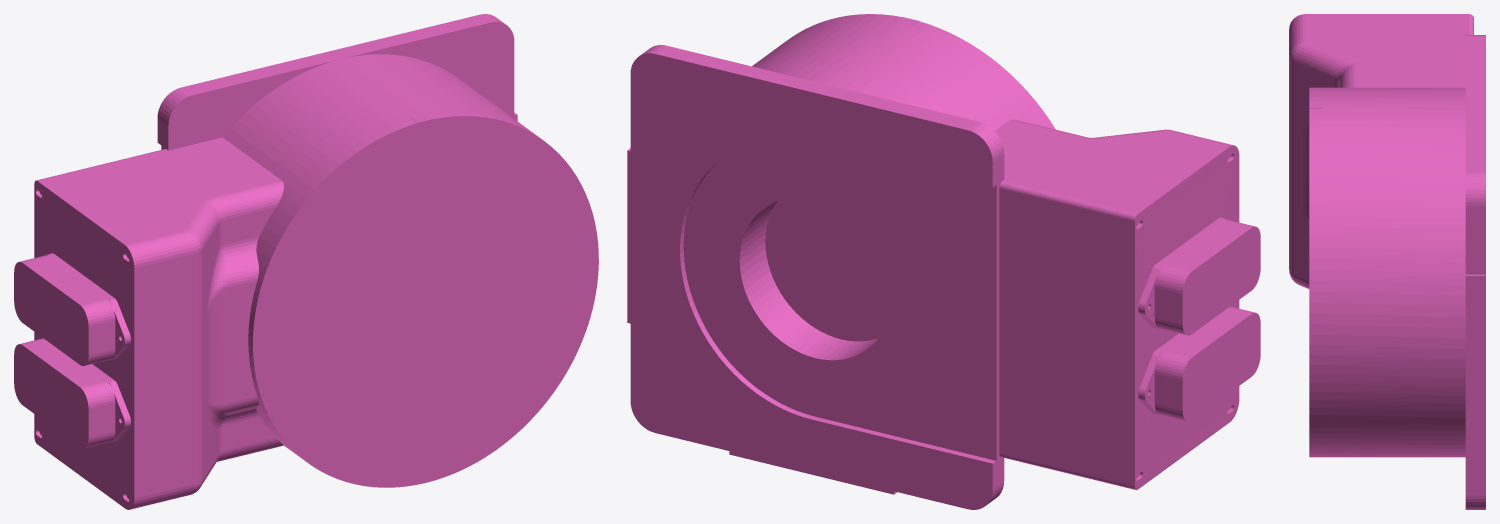
3 views of the same model, side by side, from view 1: azimuth 30°, elevation 25°; view 2: azimuth 150°, elevation 25°; view 3: azimuth 270°, elevation 25° (orthographic). The views are drawn at different scales.
Parts seen in each view (by area): view 1: Base; view 2: Base; view 3: Base.
Part boxes in pixels (x1,y1,x2,y2): Base: (14,14,598,509); Base: (627,14,1260,509); Base: (1289,14,1485,509).
Bounding box in the file's own units: 325 × 222 × 117.
